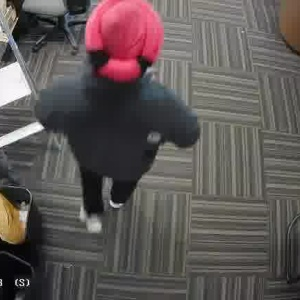person: (47, 3, 191, 203)
